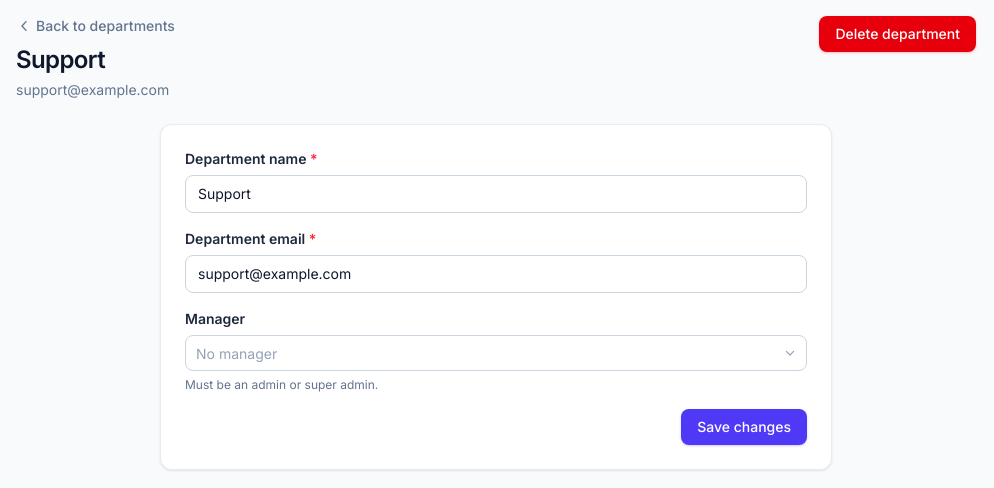
Scenario: DepartmentDetailsPage › saves changes and reflects the updated department
Replace the text in the field labelled "Department name *" with "Customer Support" at (496,194), box [185,175,807,213]
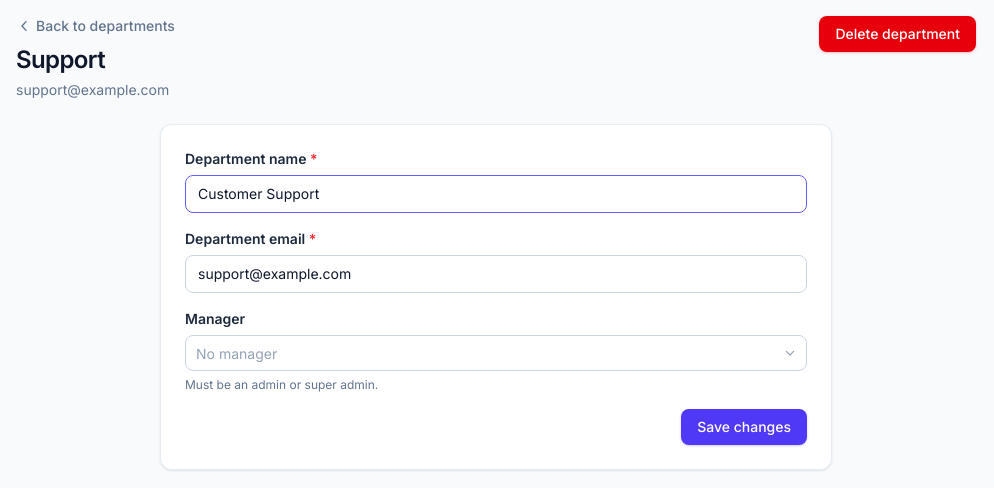
Click the button "Save changes" at (744,427), box [681,409,807,445]
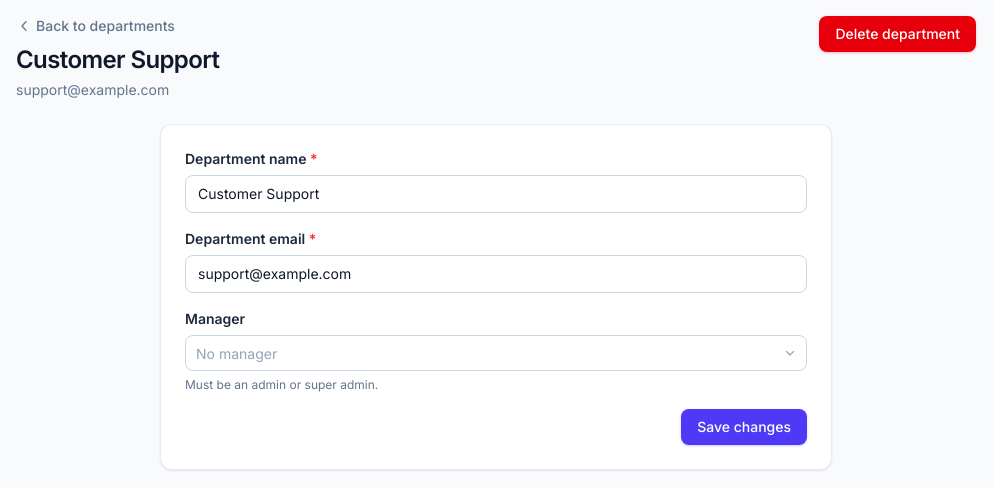
expect the heading "Customer Support" is shown: met, box [16,44,220,76]
